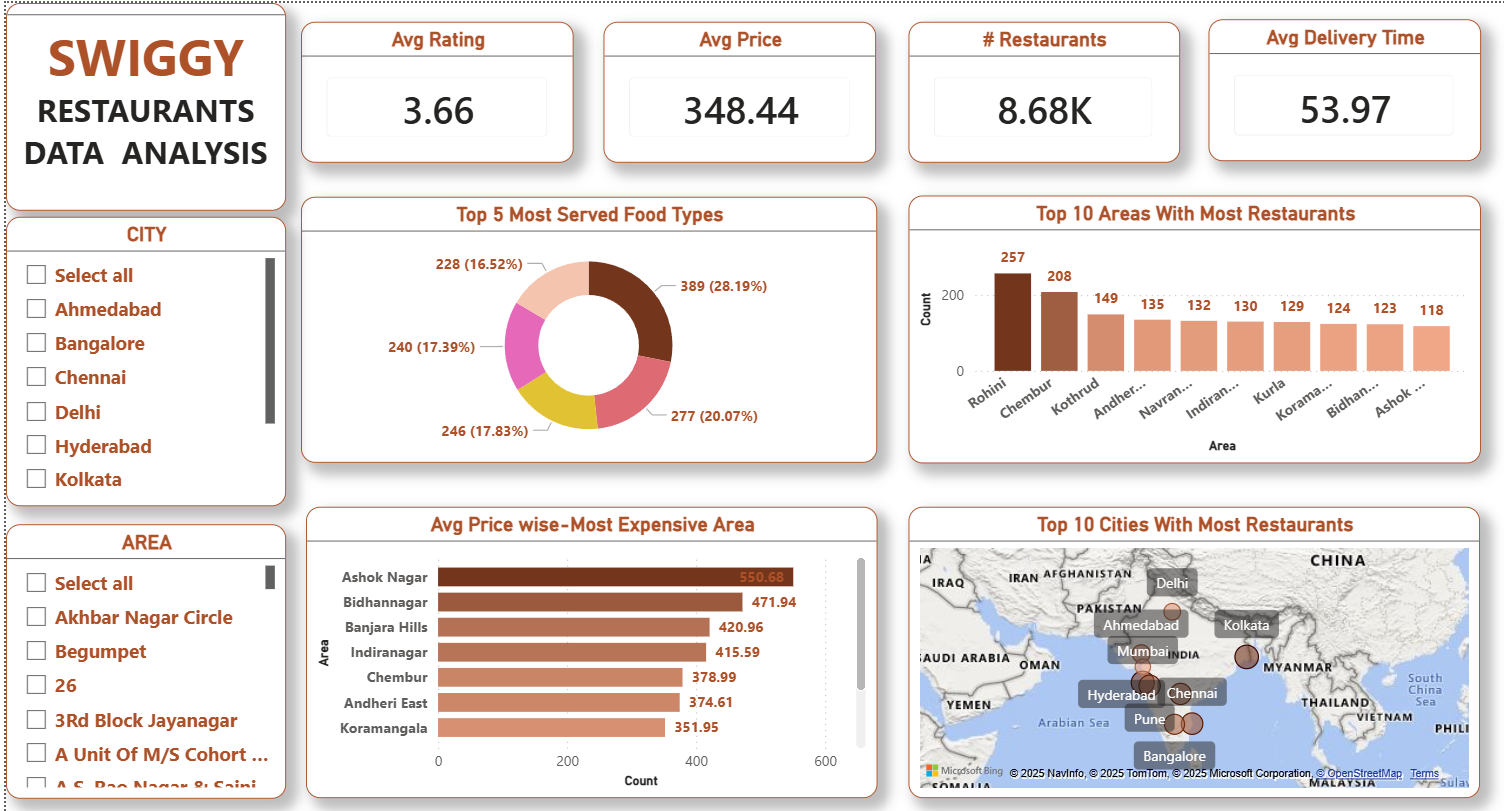

What the dashboard file says about the page in this screenshot:
{"tool":"powerbi","page":{"name":"Page 1","canvas":[1280,720],"ordinal":0},"visuals":[{"type":"cardVisual","title":"Avg Rating","fields":{"Data":["Avg(swiggy.Avg ratings)"]},"box":[250.9,15.7,232.3,119.7],"z":0},{"type":"cardVisual","title":"Avg Price","fields":{"Data":["Avg(swiggy.Price)"]},"box":[508.9,15.7,232.3,119.7],"z":1000},{"type":"cardVisual","title":"# Restaurants","fields":{"Data":["Count(swiggy.ID)"]},"box":[768.3,15.7,230.9,119.7],"z":2000},{"type":"cardVisual","title":"Avg Delivery Time ","fields":{"Data":["Avg(swiggy.Delivery time)"]},"box":[1023.2,13.7,231.9,120.8],"z":3000},{"type":"columnChart","title":"Top 10 Areas With Most Restaurants","fields":{"Category":["swiggy.Area"],"Y":["CountNonNull(swiggy.ID)"]},"box":[768.3,163.9,487.5,228.1],"z":4000},{"type":"donutChart","title":"Top 5 Most Served Food Types","fields":{"Category":["swiggy.Food type"],"Y":["CountNonNull(swiggy.ID)"]},"box":[250.9,165.3,490.3,226.6],"z":5000},{"type":"map","title":"Top 10 Cities With Most Restaurants","fields":{"Category":["swiggy.City"],"Size":["CountNonNull(swiggy.ID)"]},"box":[768.3,428.3,486.7,248.3],"z":6000},{"type":"barChart","title":"Avg Price wise-Most Expensive Area","fields":{"Category":["swiggy.Area"],"Y":["Avg(swiggy.Price)"]},"box":[255,428.3,486.7,248.3],"z":6001},{"type":"textbox","box":[0,0,238.3,176.7],"z":6002},{"type":"slicer","title":"CITY","fields":{"Values":["swiggy.City"]},"box":[0,181.7,238.3,246.7],"z":6003},{"type":"slicer","title":"AREA","fields":{"Values":["swiggy.Area"]},"box":[0,443.3,238.3,233.3],"z":6004}]}

Visuals, with their boxes on the page's 1280x720 design canvas (x1, y1, x2, y2). These are canvas units, not pixel positions in the 1504x811 screenshot, which may show the page scaled, cropped or inside an application window:
"Avg Rating" cardVisual: {"left": 251, "top": 16, "right": 483, "bottom": 135}
"Avg Price" cardVisual: {"left": 509, "top": 16, "right": 741, "bottom": 135}
"# Restaurants" cardVisual: {"left": 768, "top": 16, "right": 999, "bottom": 135}
"Avg Delivery Time " cardVisual: {"left": 1023, "top": 14, "right": 1255, "bottom": 134}
"Top 10 Areas With Most Restaurants" columnChart: {"left": 768, "top": 164, "right": 1256, "bottom": 392}
"Top 5 Most Served Food Types" donutChart: {"left": 251, "top": 165, "right": 741, "bottom": 392}
"Top 10 Cities With Most Restaurants" map: {"left": 768, "top": 428, "right": 1255, "bottom": 677}
"Avg Price wise-Most Expensive Area" barChart: {"left": 255, "top": 428, "right": 742, "bottom": 677}
textbox: {"left": 0, "top": 0, "right": 238, "bottom": 177}
"CITY" slicer: {"left": 0, "top": 182, "right": 238, "bottom": 428}
"AREA" slicer: {"left": 0, "top": 443, "right": 238, "bottom": 677}
